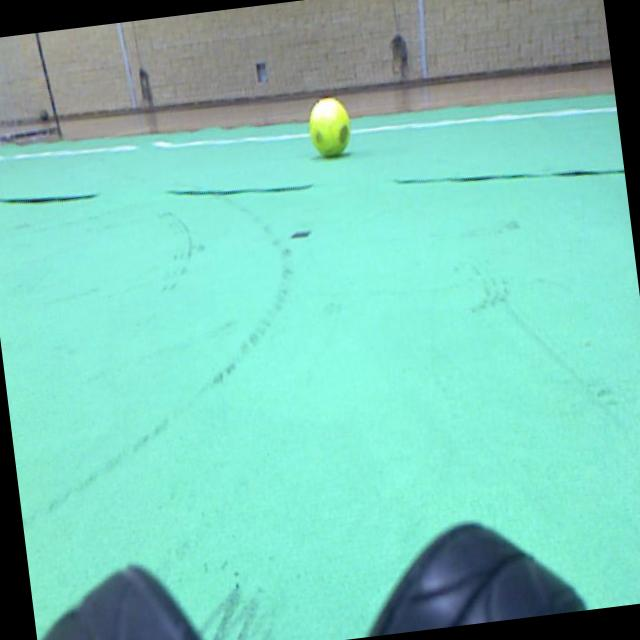ball: (308, 97, 349, 155)
